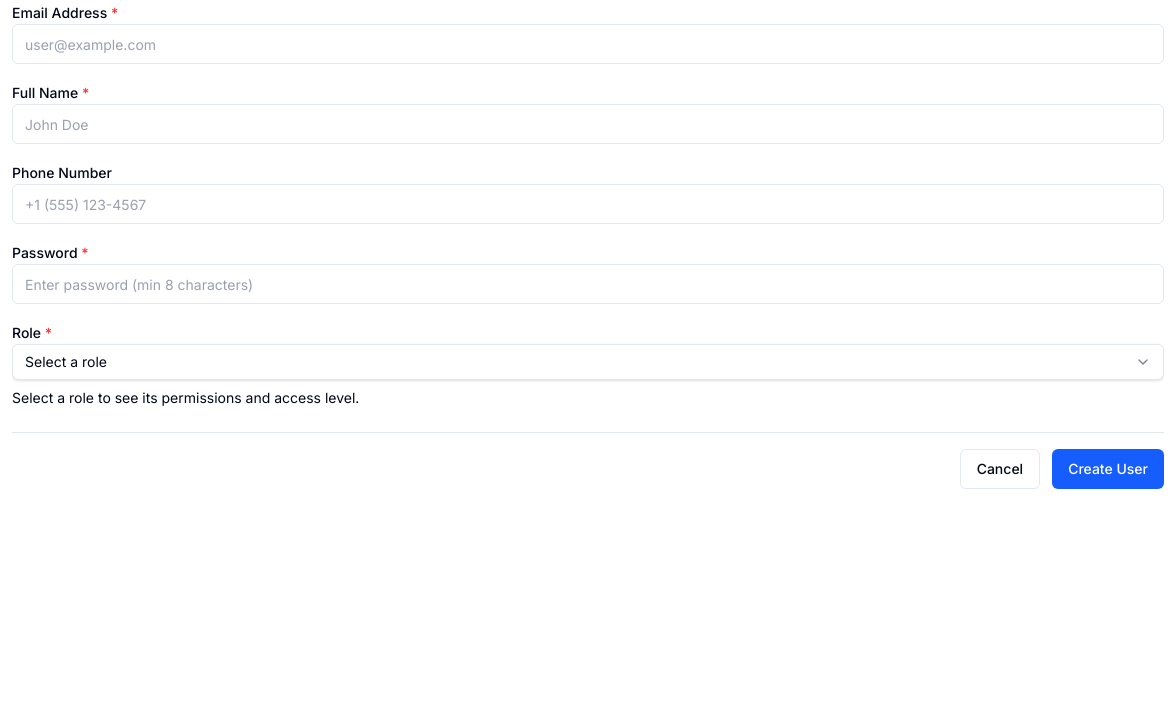
Test: UserForm Component › Create Mode › should display validation error for invalid email format
Type "invalidemail" into the field labelled "Email Address *" at (588,44), box [12,24,1164,64]
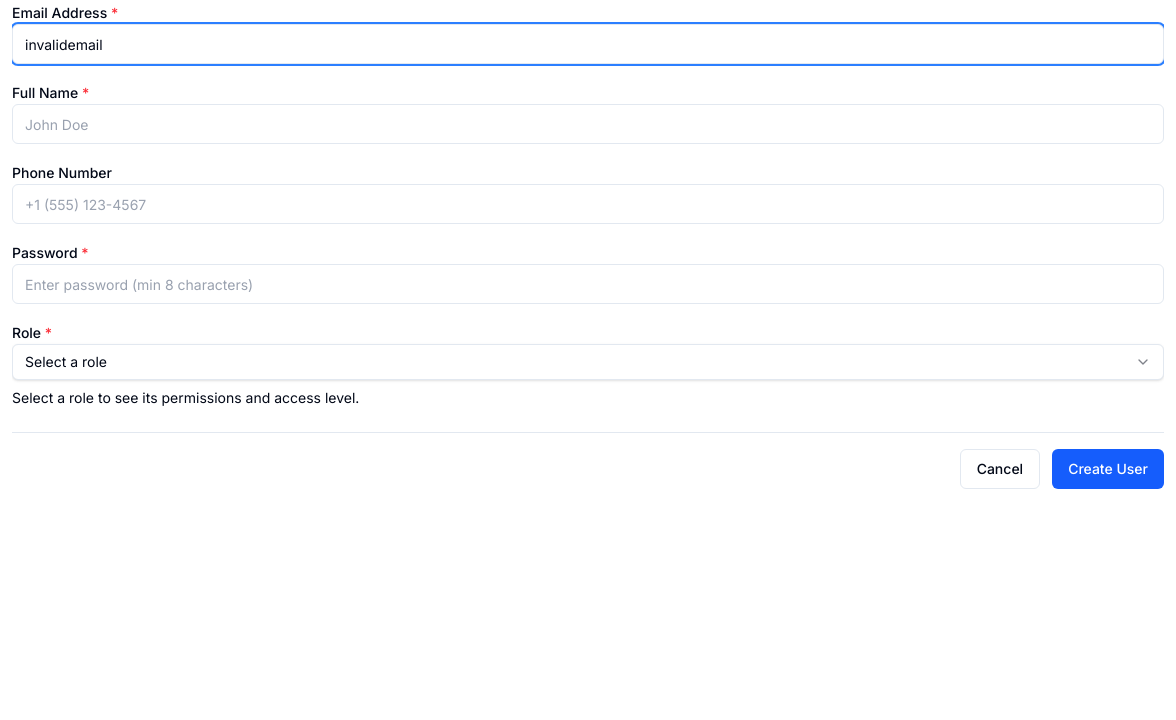
Press Tab
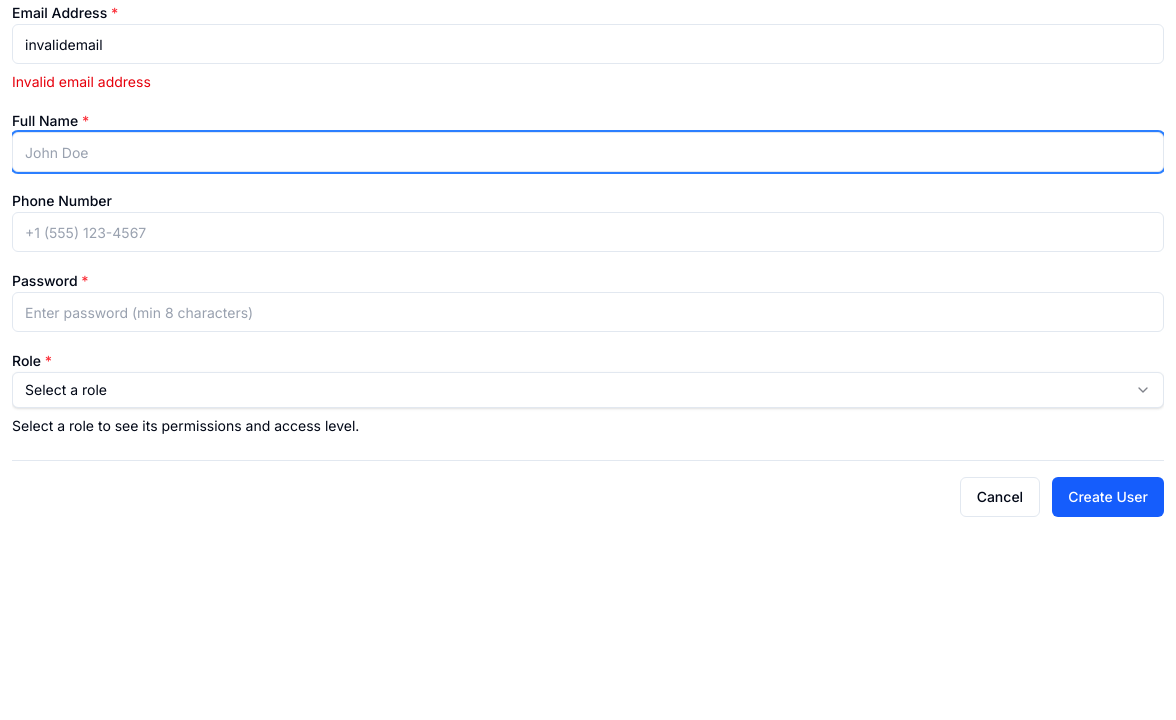
Expected: the text "Invalid email address" is shown, [12,73,151,90]
